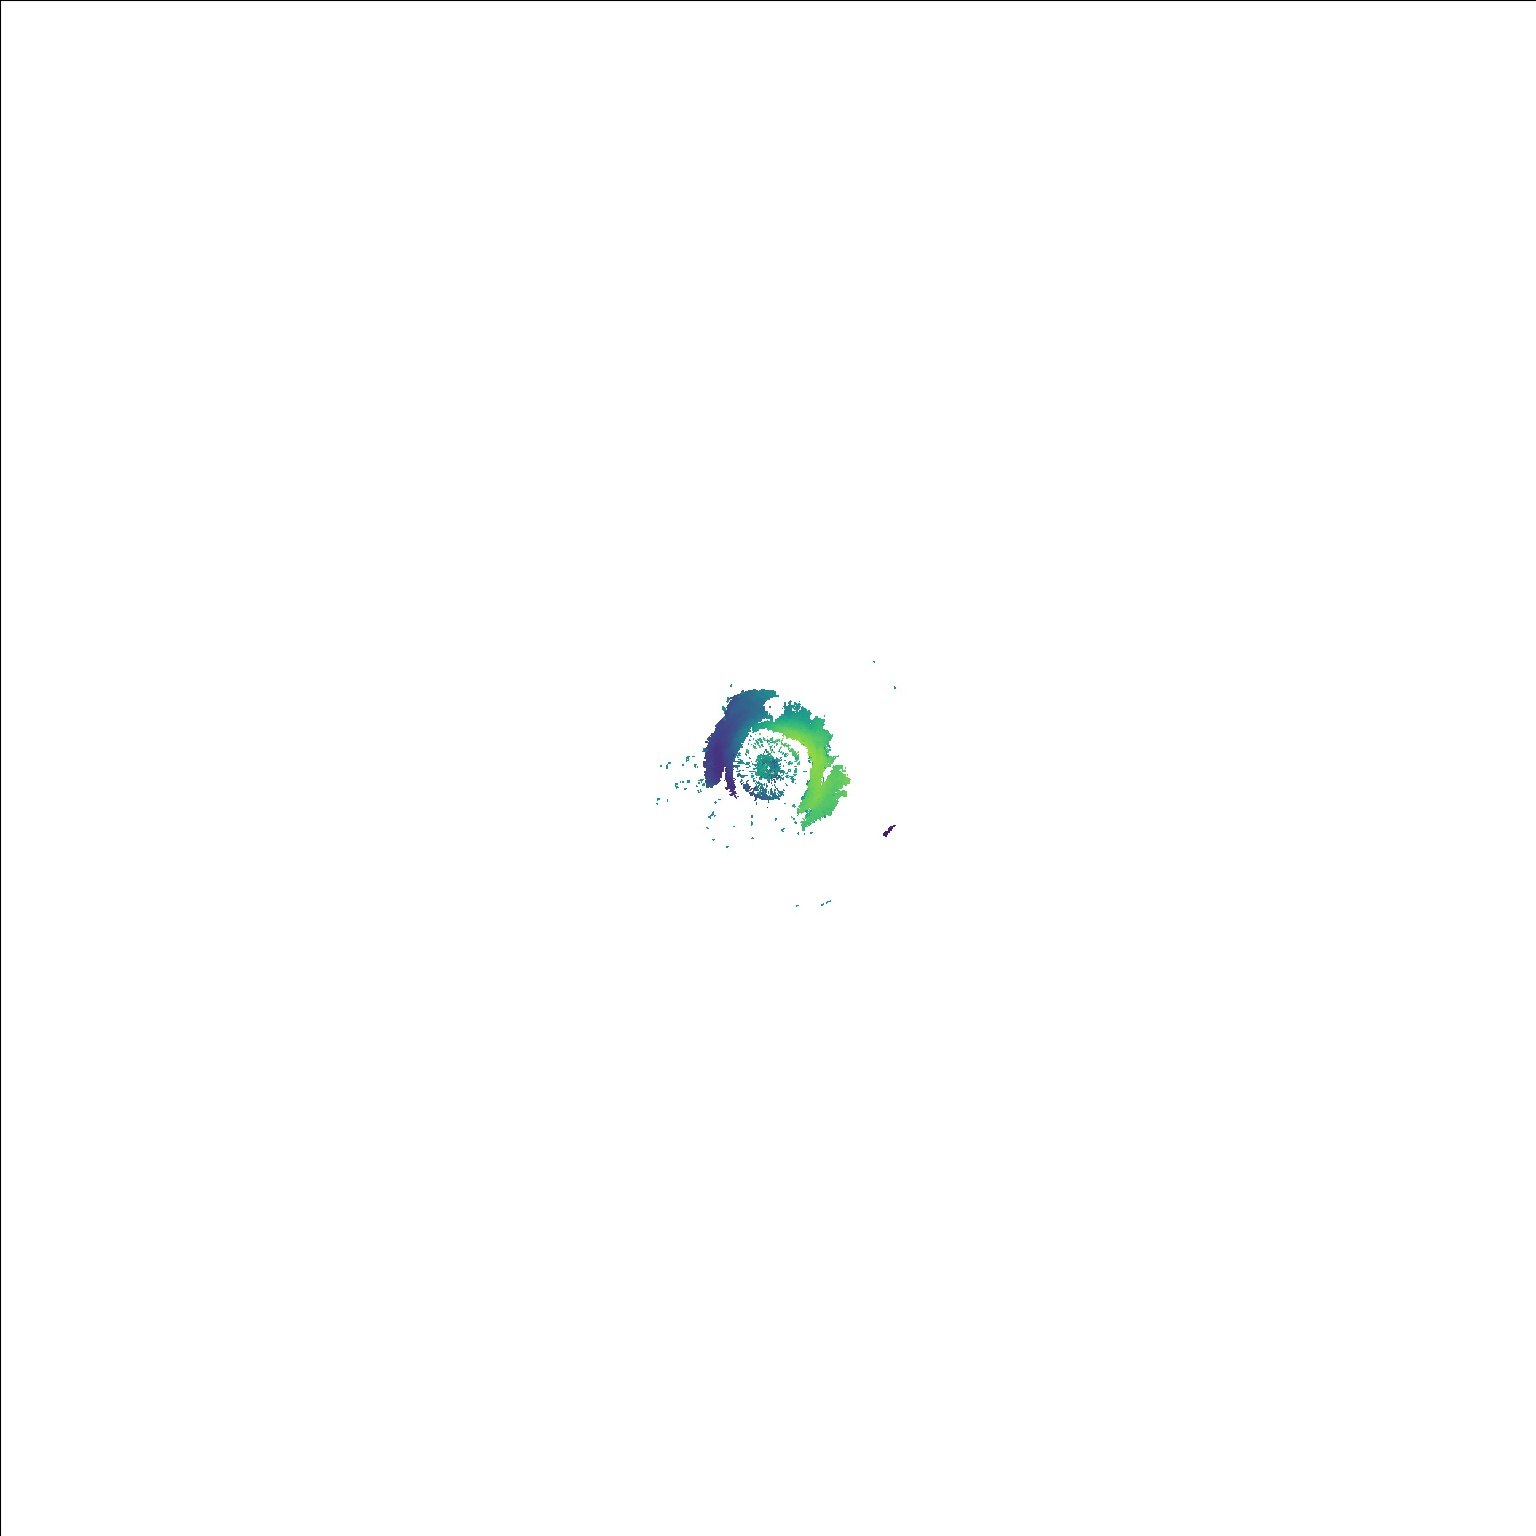fall: (881, 819, 899, 843)
